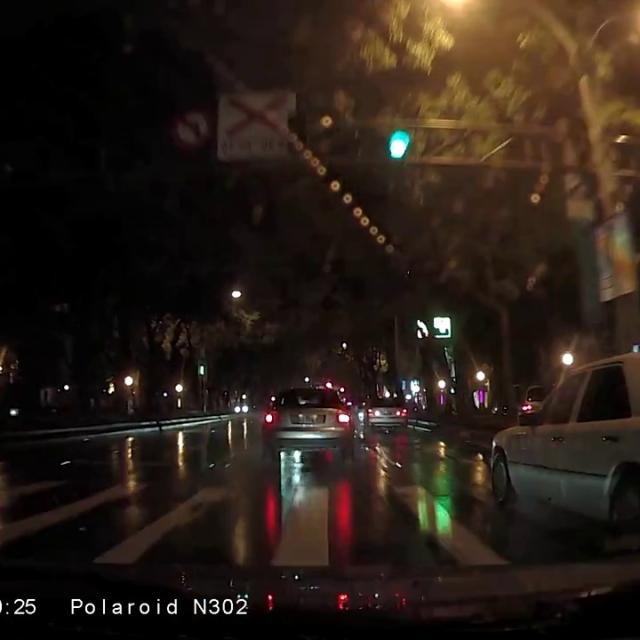Car: (485, 347, 639, 554), (262, 387, 352, 464), (362, 389, 405, 424), (517, 382, 552, 418)
